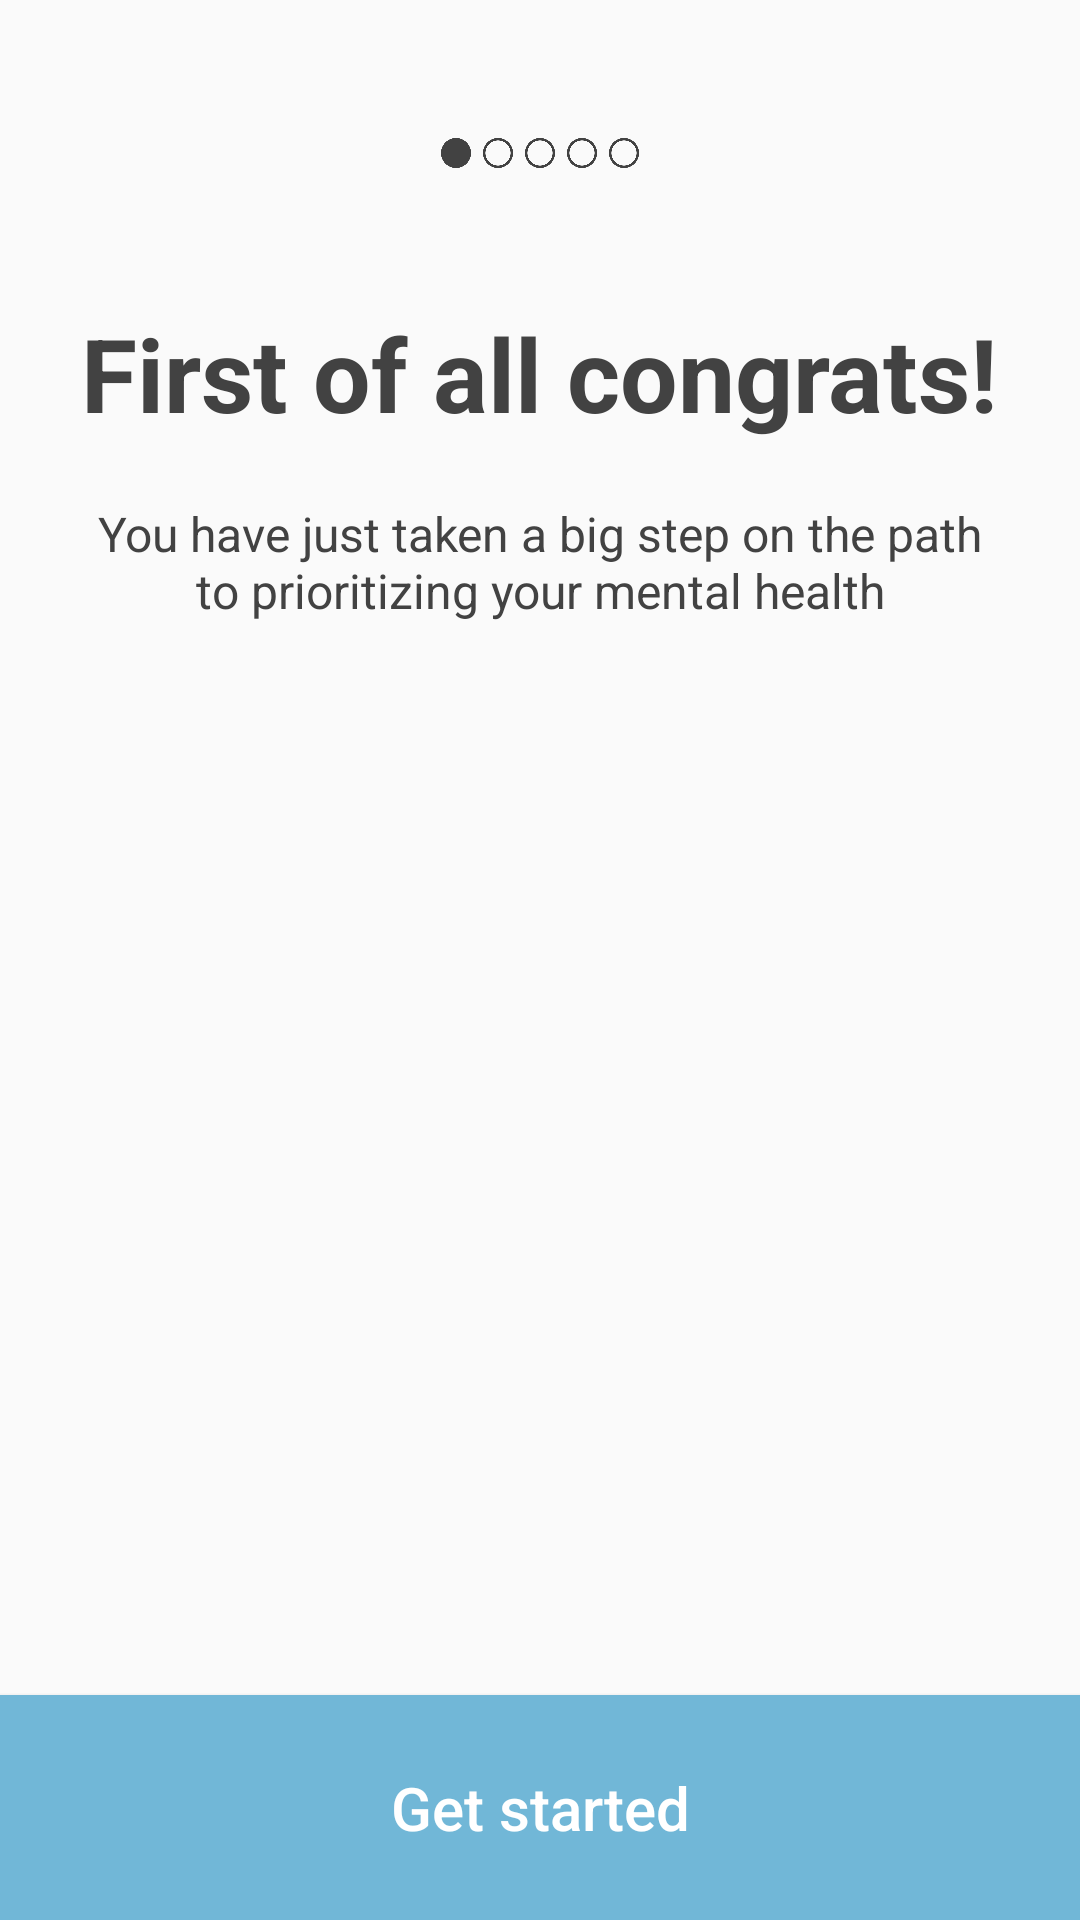

Screen size 1080px x 1920px. Icon name, then its box in pixels as (x1=x1, y1=y1, x2=x2, y2=y2):
dot: (x1=441, y1=138, x2=471, y2=168)
unfilled dot: (x1=483, y1=138, x2=513, y2=168), (x1=525, y1=138, x2=555, y2=168), (x1=567, y1=138, x2=597, y2=168), (x1=609, y1=138, x2=639, y2=168)
